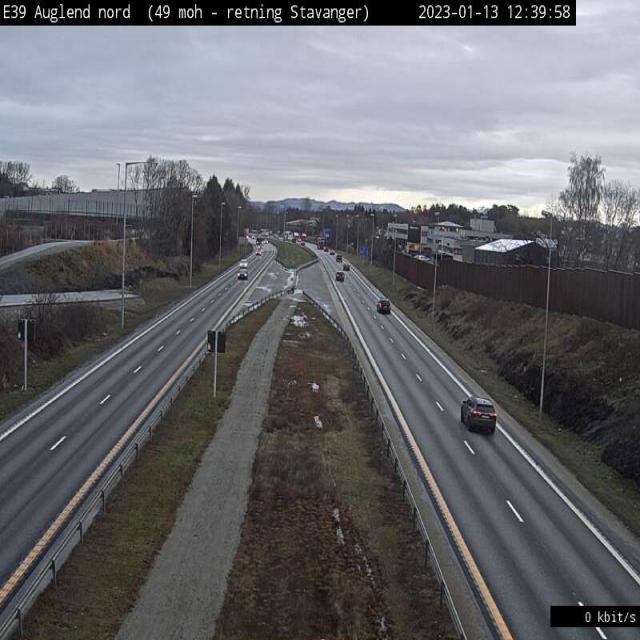car: (460, 397, 498, 435), (377, 300, 391, 314)
